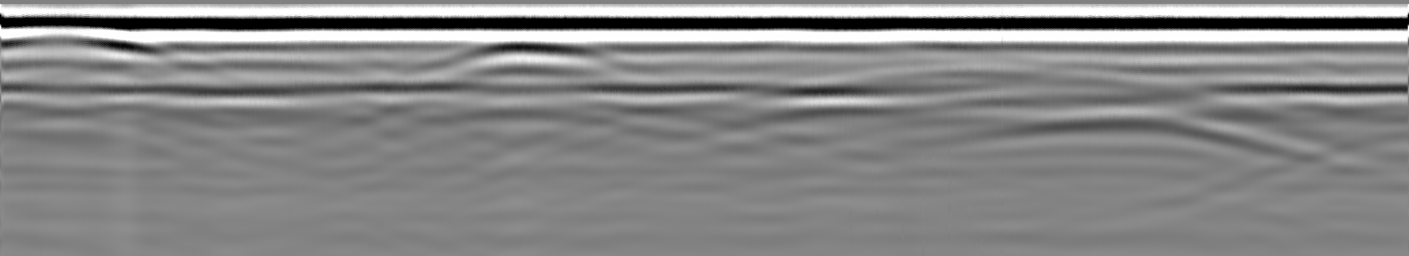pipe: (1, 14, 159, 57)
